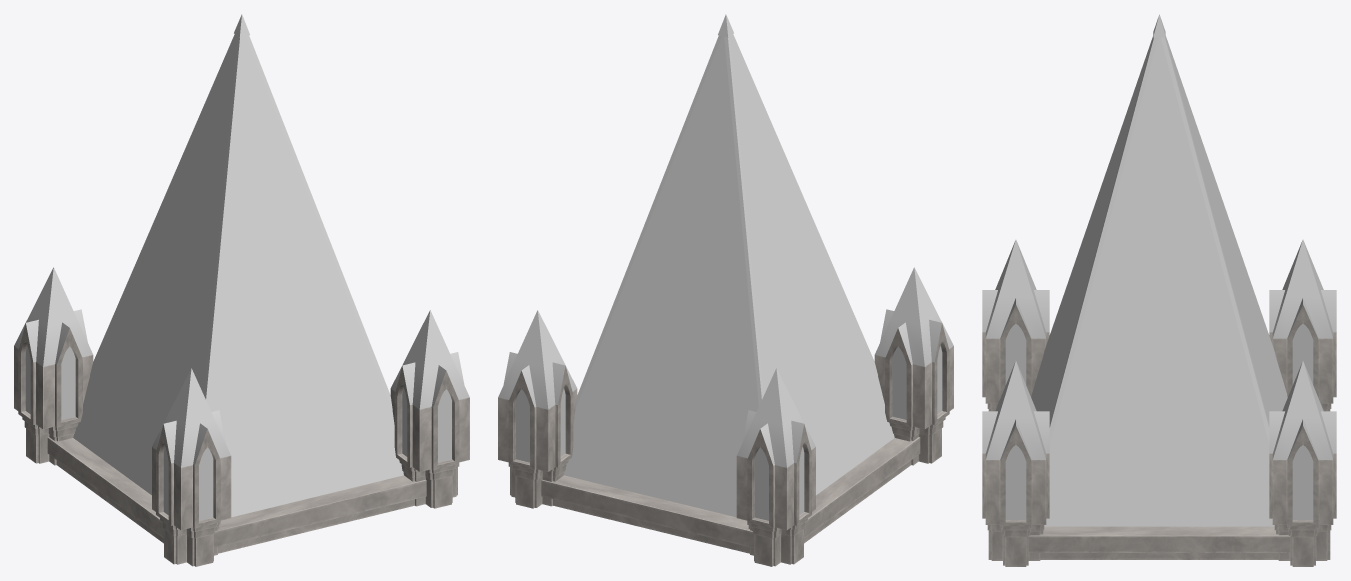
Rendered from Roof_Tower.fbx.
The picture shows the model from 3 angles, left to right: view 1: azimuth 30°, elevation 25°; view 2: azimuth 150°, elevation 25°; view 3: azimuth 270°, elevation 25°; orthographic projection. The views are drawn at different scales.
Parts seen in each view (by area): view 1: Roof_Tower; view 2: Roof_Tower; view 3: Roof_Tower.
Boxes of the visible parts, bbox=[...] form: Roof_Tower: bbox=[14, 14, 469, 566]; Roof_Tower: bbox=[498, 14, 953, 566]; Roof_Tower: bbox=[982, 14, 1336, 566].
Bounding box in the file's own units: 7.4 × 7.4 × 11.11.
